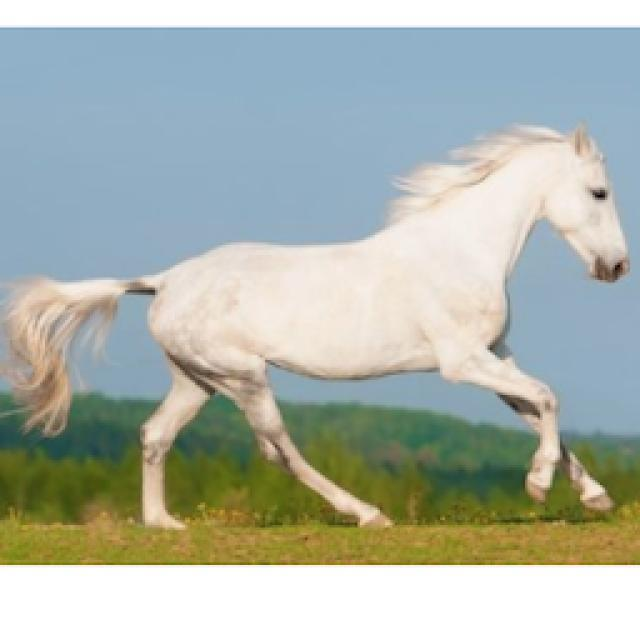Horse: (0, 115, 638, 535)
